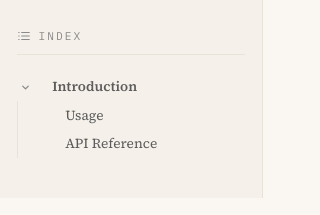
Test case: TableOfContents › collapses a section to hide its sub-headings
The image size is (320, 215).
Check: the text "Usage" is shown, box [65,106,104,125]
Click the button named "collapse section": (26, 87) [17,73,35,101]
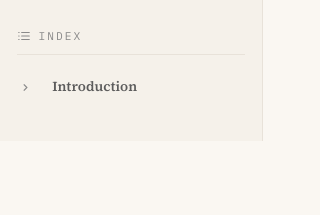
Check: the text "Introduction" is shown, box [52,78,137,97]
Check: the button "Usage" is gone
Check: the button "API Reference" is gone
